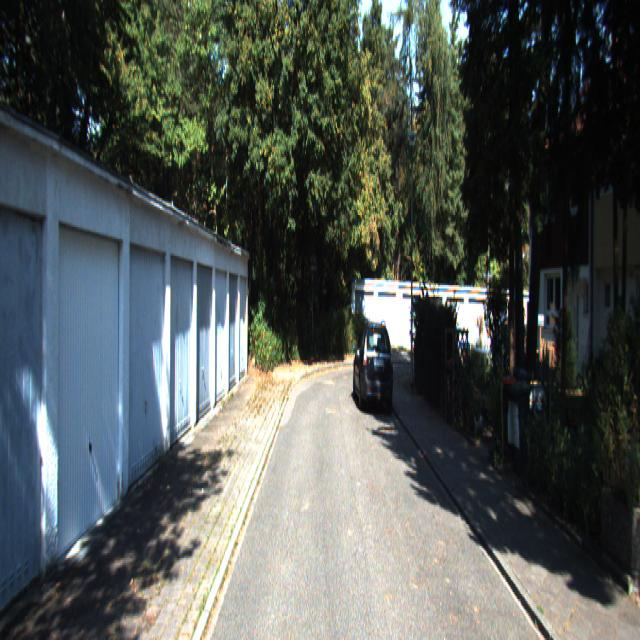Car: (351, 316, 393, 409)
